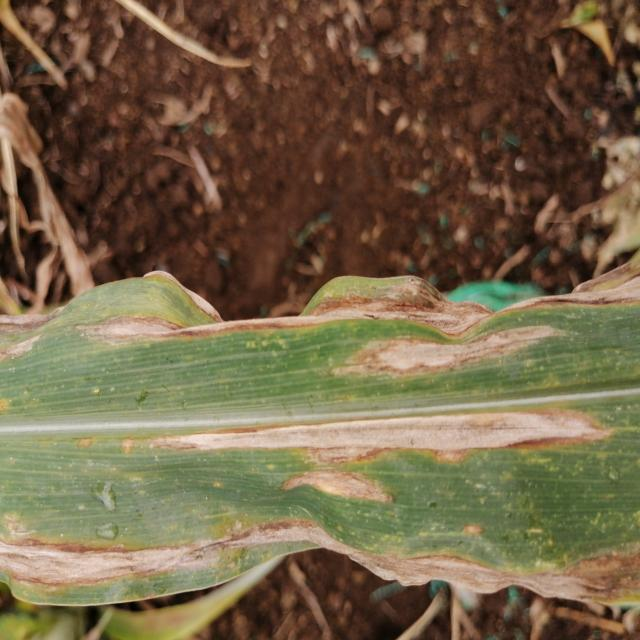Corn_Leaf_Blight: (0, 274, 640, 607)
